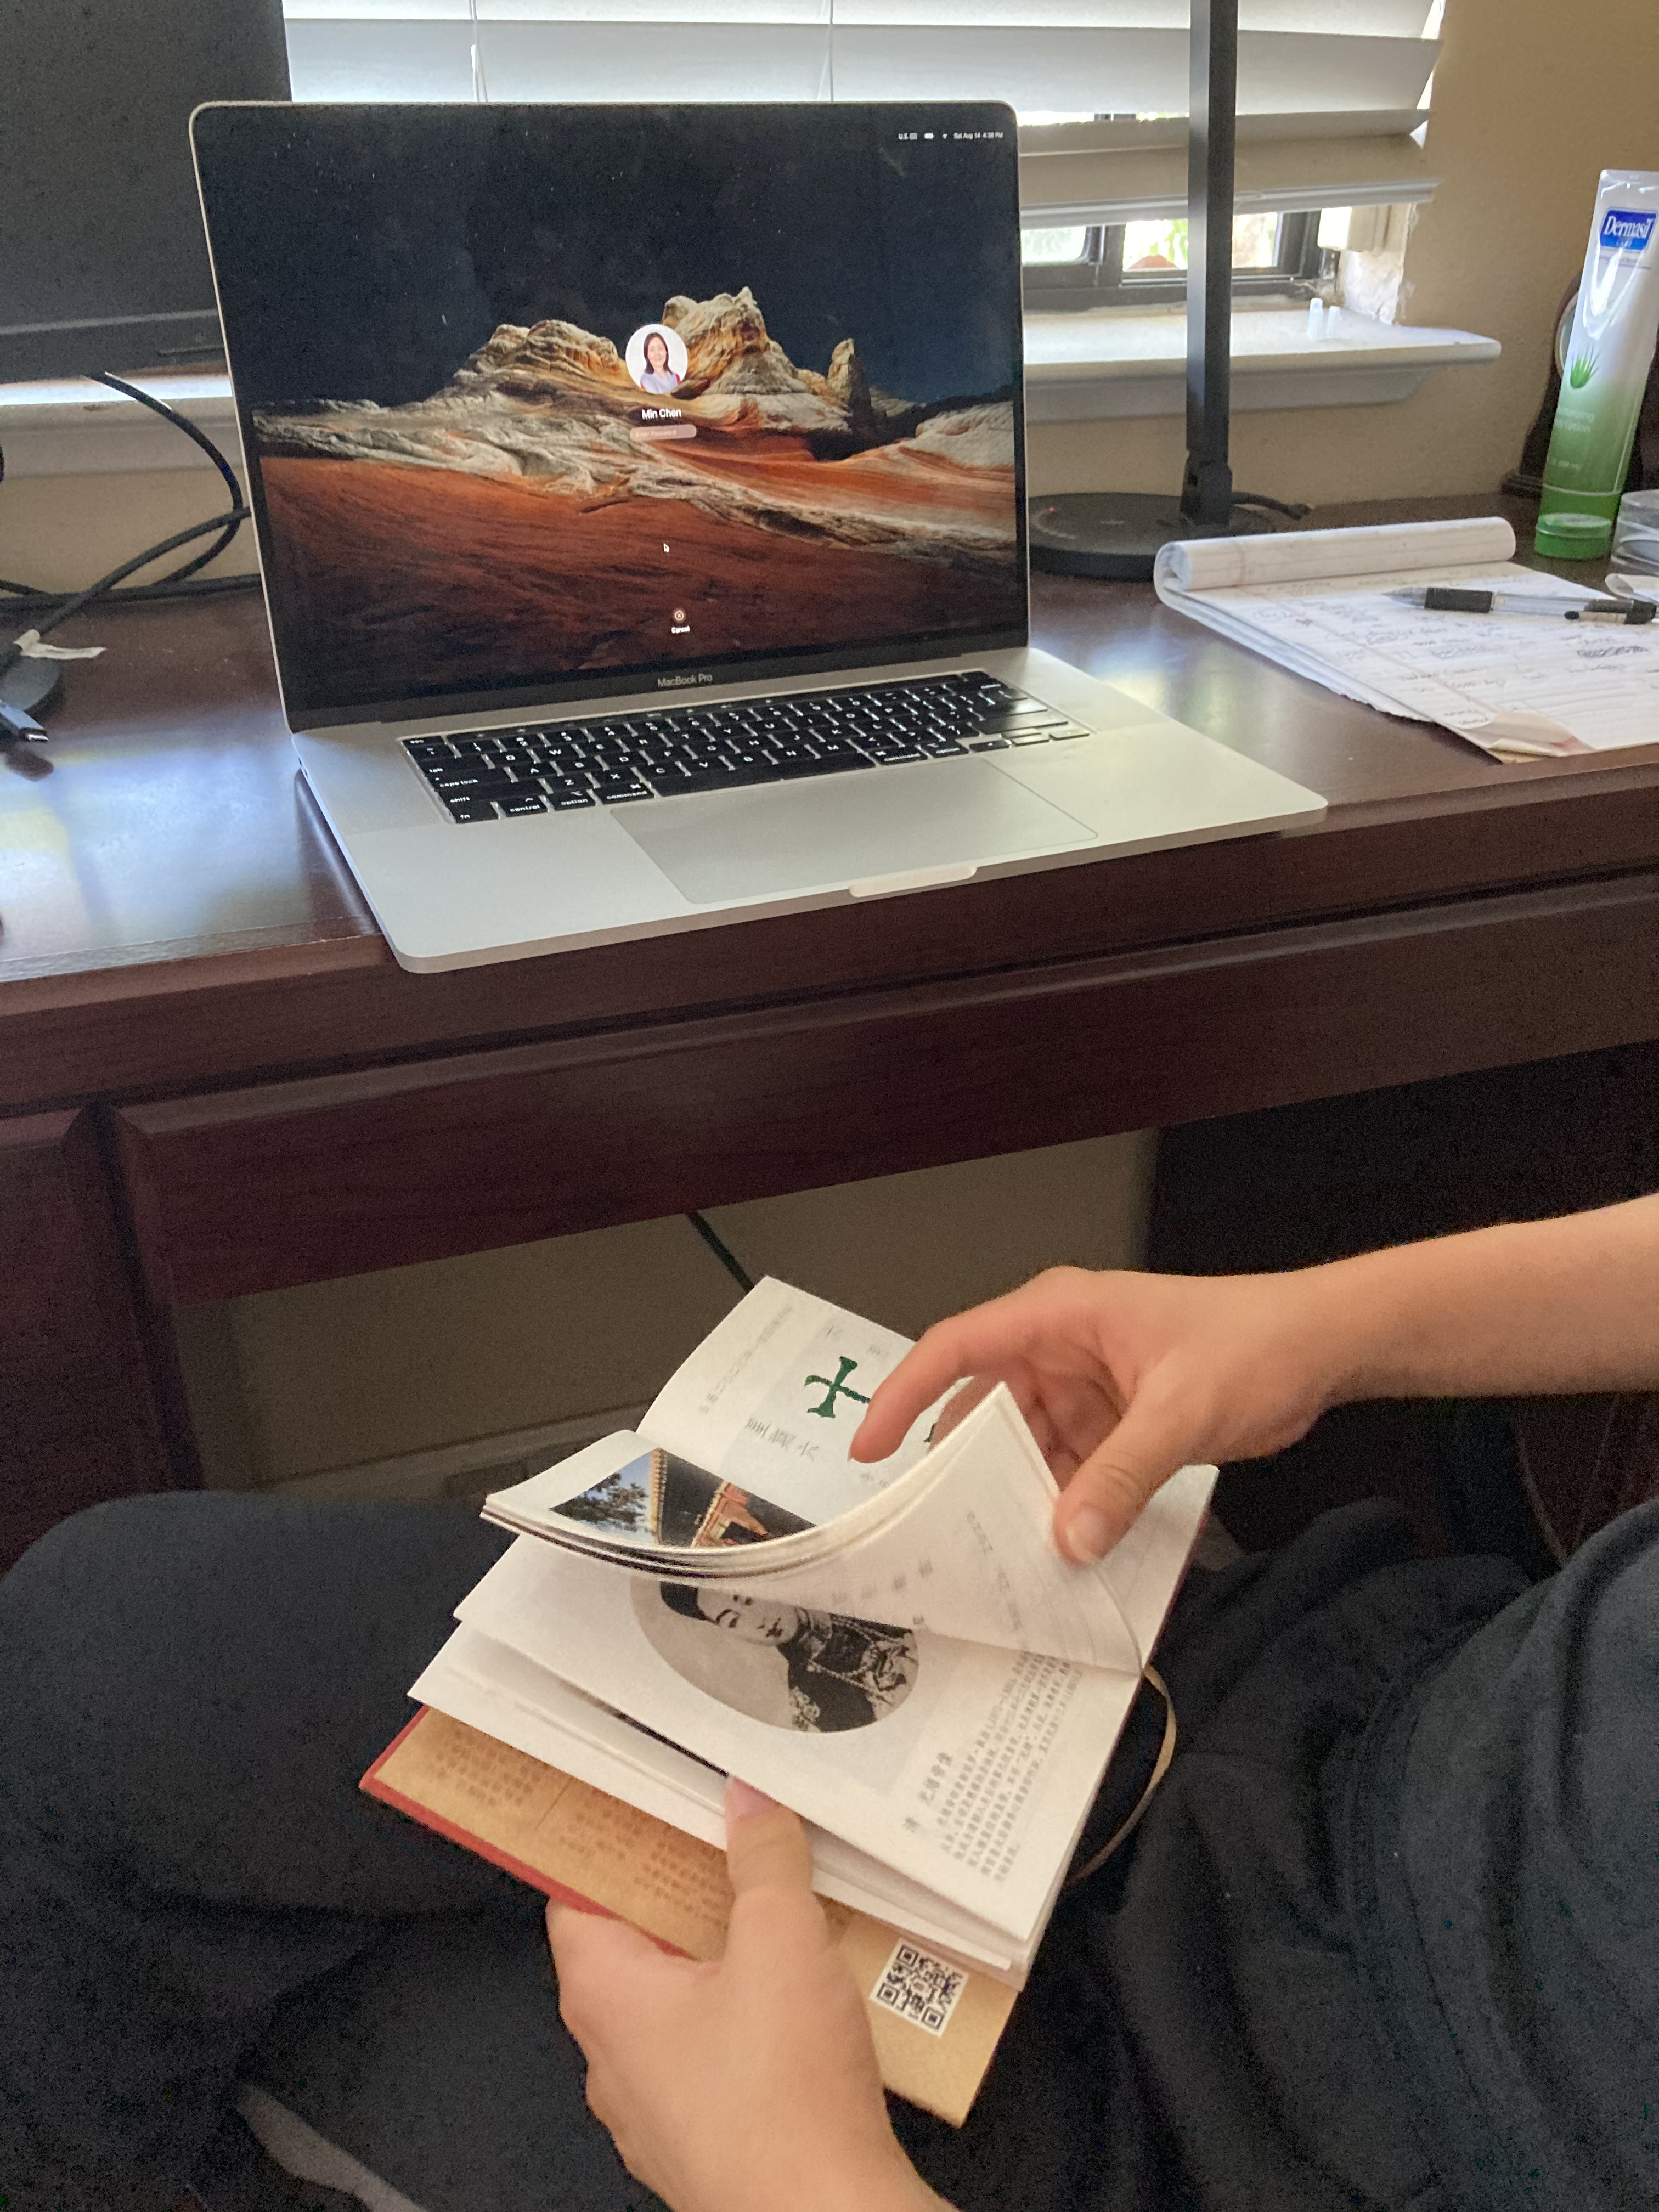Open Book: (354, 1277, 1243, 2137)
